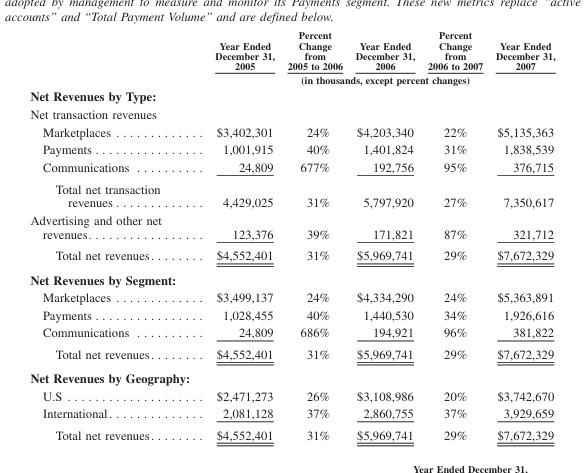table: (29, 29, 554, 441)
table column: (29, 29, 187, 441), (187, 29, 280, 441), (348, 29, 420, 441), (280, 29, 348, 441), (420, 29, 488, 441), (488, 29, 554, 441)
table column header: (29, 29, 554, 86)
table projected row header: (29, 266, 554, 288), (29, 365, 554, 386), (29, 86, 554, 104), (29, 104, 554, 122)
table row: (29, 29, 554, 72), (29, 210, 554, 244), (29, 177, 554, 210), (29, 342, 554, 365), (29, 244, 554, 266), (29, 266, 554, 288), (29, 365, 554, 386), (29, 157, 554, 177), (29, 323, 554, 342), (29, 404, 554, 423), (29, 86, 554, 104), (29, 104, 554, 122), (29, 122, 554, 140), (29, 305, 554, 323), (29, 386, 554, 404), (29, 423, 554, 441), (29, 140, 554, 157), (29, 288, 554, 305), (29, 72, 554, 86)
table spanning cell: (187, 72, 554, 86)
